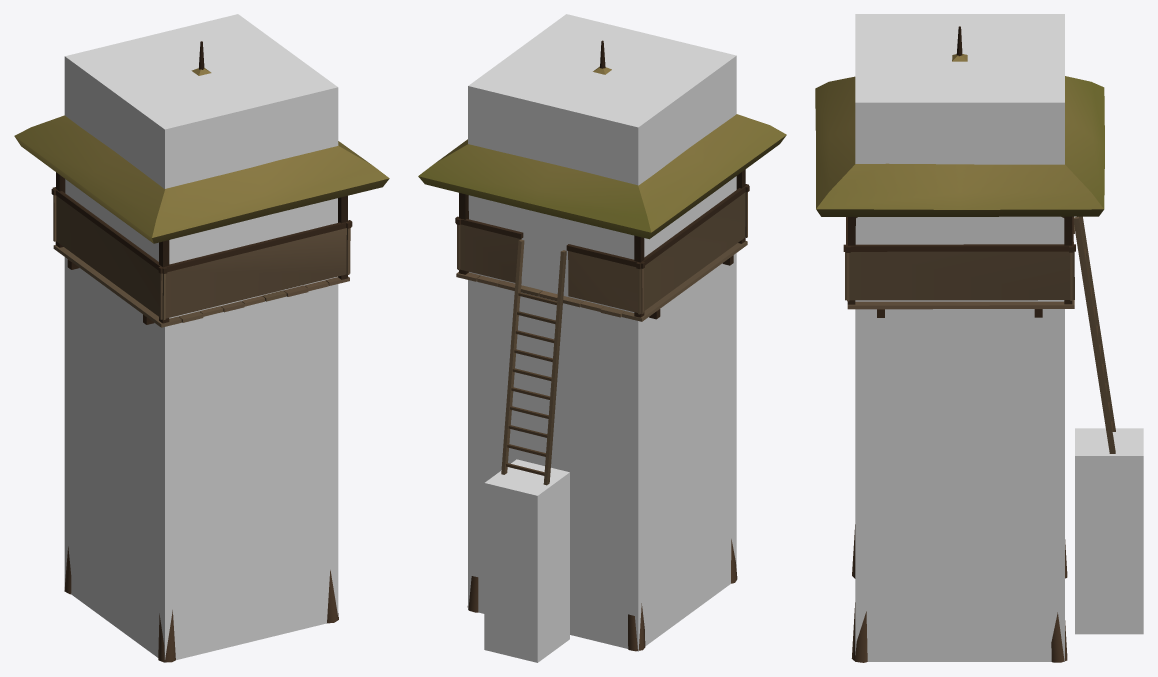
Rendered from watchtower.glb.
3 views of the same model, side by side, from view 1: azimuth 30°, elevation 25°; view 2: azimuth 150°, elevation 25°; view 3: azimuth 270°, elevation 25° (orthographic). The views are drawn at different scales.
Parts seen in each view (by area): view 1: COL_legs, watchtower; view 2: COL_legs, watchtower, COL_ladder; view 3: COL_legs, watchtower, COL_ladder.
Boxes of the visible parts, x1,y1,x2,y2 form: COL_legs: (64, 14, 338, 662); watchtower: (14, 41, 389, 662); COL_legs: (468, 14, 736, 651); watchtower: (418, 40, 786, 651); COL_ladder: (484, 459, 569, 662); COL_legs: (855, 14, 1064, 661); watchtower: (815, 26, 1115, 662); COL_ladder: (1075, 428, 1143, 634).
Bounding box in the file's own units: 4.41 × 9.95 × 5.01.
